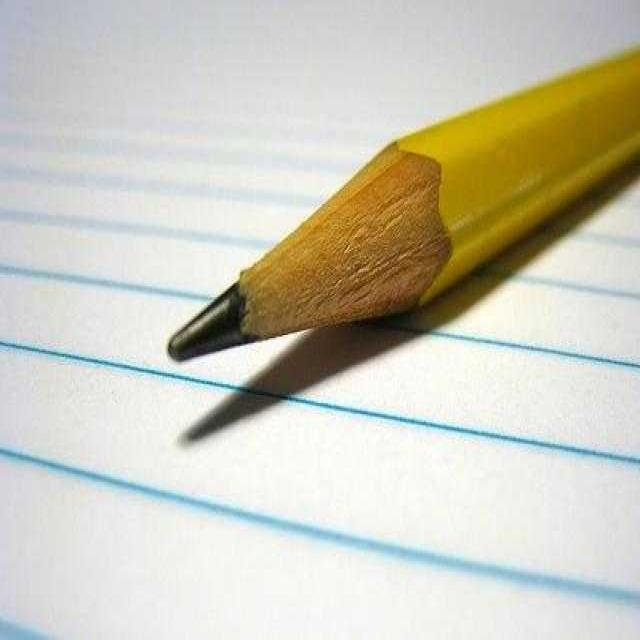pencil: (165, 47, 640, 367)
